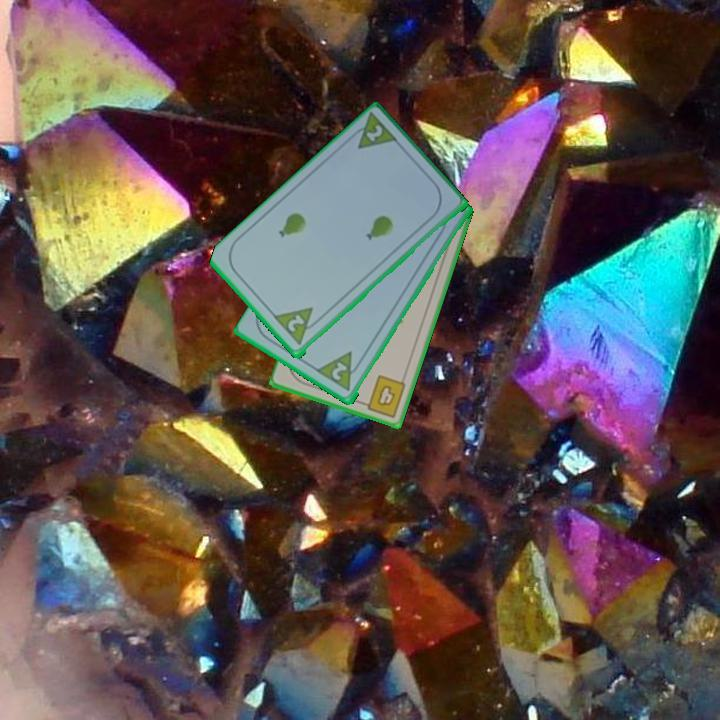2p: (345, 110, 401, 153), (284, 311, 308, 335), (328, 359, 351, 384)
4b: (357, 372, 409, 420)
